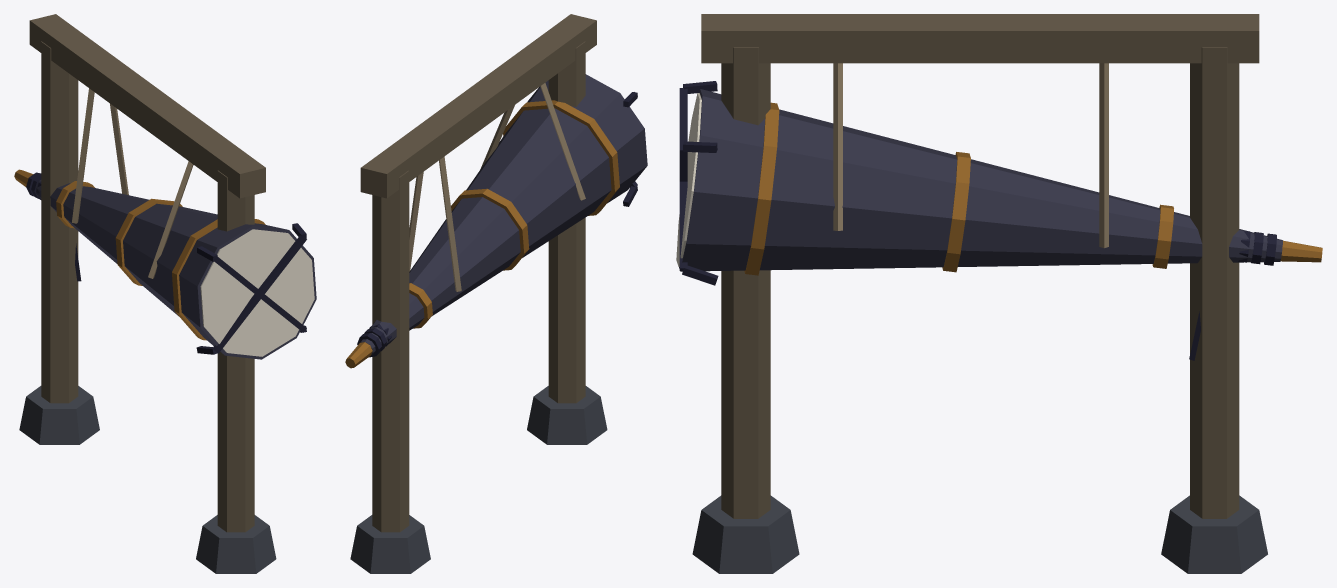
Rendered from answering_horn.glb.
The picture shows the model from 3 angles, left to right: view 1: azimuth 30°, elevation 25°; view 2: azimuth 150°, elevation 25°; view 3: azimuth 270°, elevation 25°; orthographic projection. The views are drawn at different scales.
Visible parts, largest first — view 1: driftwood_d50, ink_l12, bone_d12, slate_d40, ink_l2, ember_d40, driftwood_d30; view 2: driftwood_d50, ink_l12, slate_d40, ember_d40, driftwood_d30, ink_l2; view 3: driftwood_d50, ink_l12, slate_d40, ember_d40, driftwood_d30, ink_l2, bone_d12.
Part boxes in pixels (x1=…): driftwood_d50: x1=29, y1=14, x2=265, y2=532; ink_l12: x1=32, y1=180, x2=316, y2=359; bone_d12: x1=200, y1=229, x2=314, y2=356; slate_d40: x1=19, y1=386, x2=276, y2=573; ink_l2: x1=26, y1=172, x2=306, y2=354; ember_d40: x1=14, y1=169, x2=265, y2=340; driftwood_d30: x1=72, y1=88, x2=193, y2=278; driftwood_d50: x1=360, y1=14, x2=596, y2=532; ink_l12: x1=360, y1=74, x2=647, y2=355; slate_d40: x1=350, y1=386, x2=607, y2=573; ember_d40: x1=345, y1=100, x2=619, y2=368; driftwood_d30: x1=409, y1=83, x2=585, y2=291; ink_l2: x1=357, y1=92, x2=637, y2=357; driftwood_d50: x1=701, y1=14, x2=1259, y2=518; ink_l12: x1=679, y1=89, x2=1282, y2=271; slate_d40: x1=692, y1=495, x2=1267, y2=573; ember_d40: x1=744, y1=102, x2=1322, y2=275; driftwood_d30: x1=833, y1=63, x2=1108, y2=248; ink_l2: x1=679, y1=81, x2=1276, y2=360; bone_d12: x1=676, y1=93, x2=701, y2=266.
Bounding box in the file's own units: 0.7989 × 2.63 × 2.9.
